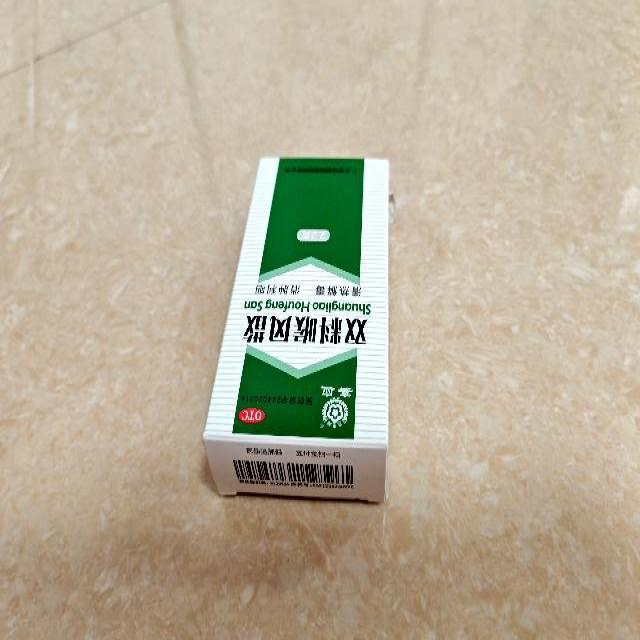box: (200, 158, 390, 502)
